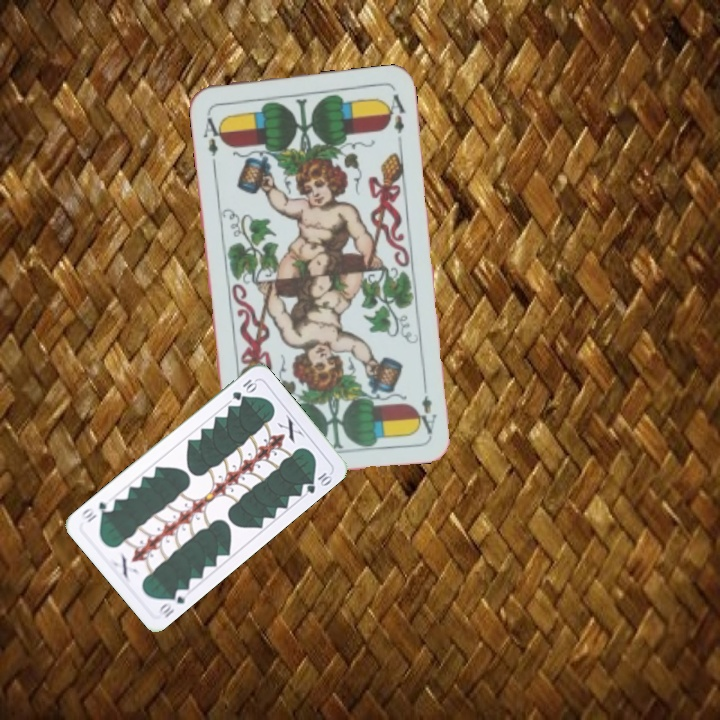EA: (412, 378, 439, 437), (198, 107, 226, 159)
G10: (155, 584, 191, 620), (228, 375, 259, 403)
